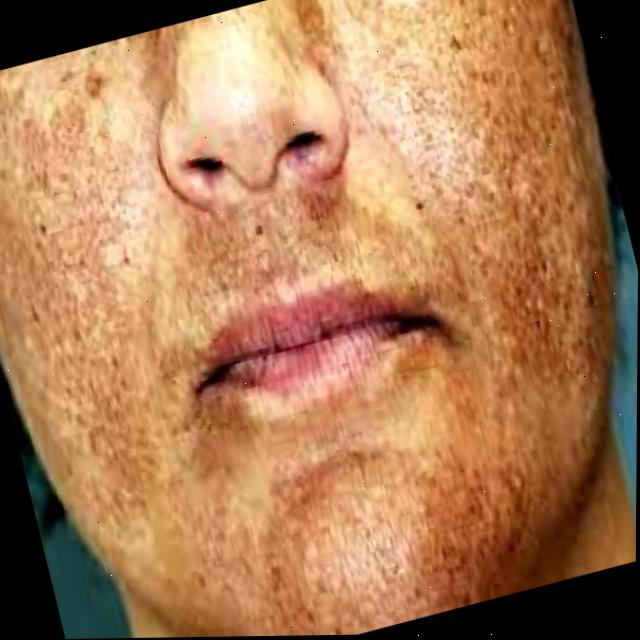Melasma: (334, 0, 640, 423), (0, 40, 222, 540), (237, 416, 529, 636)
